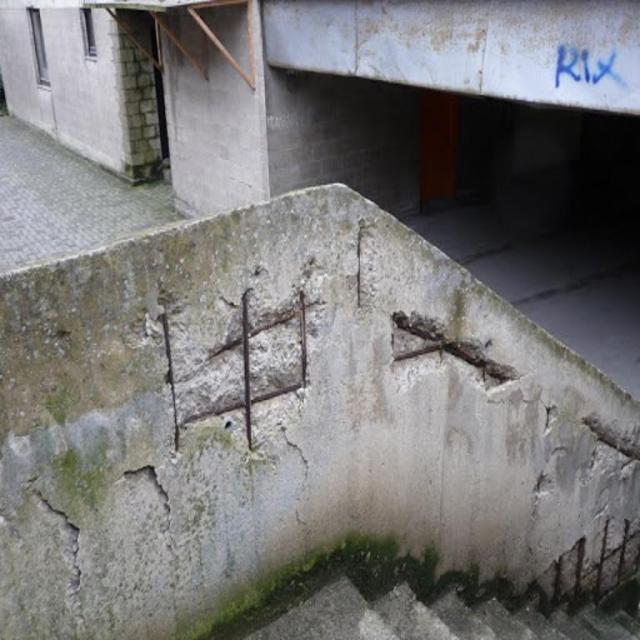spalling: (153, 255, 333, 458), (385, 311, 524, 395), (28, 485, 89, 635), (115, 458, 173, 528), (583, 415, 639, 475)
